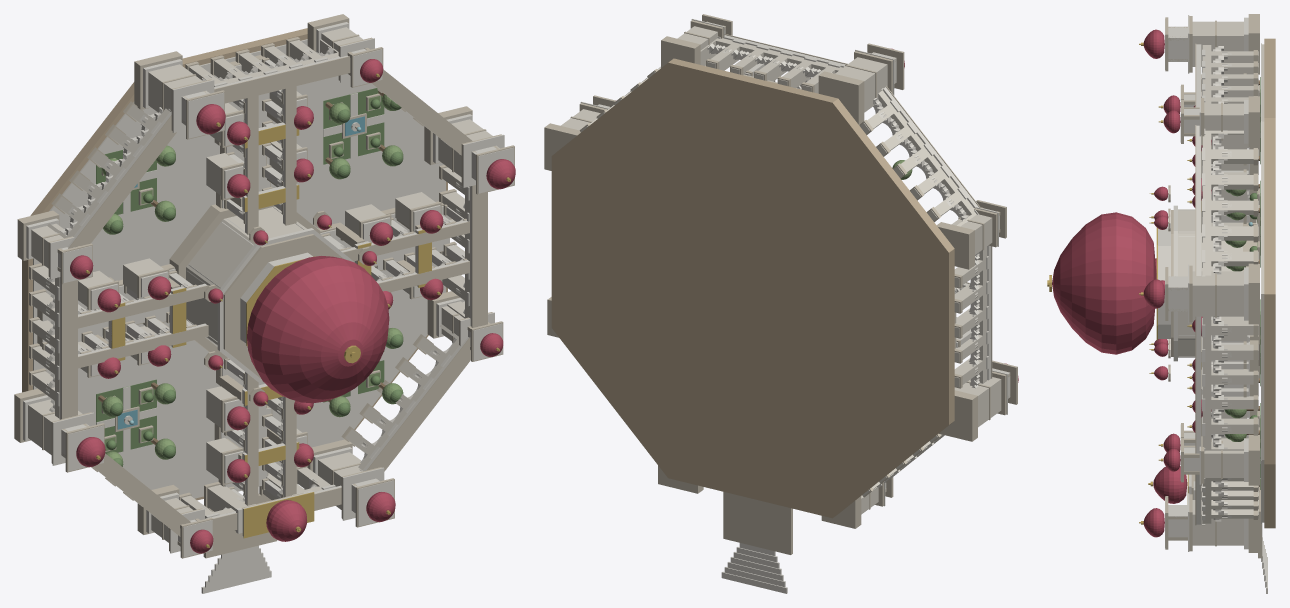
Rendered from arabian_palace_v10.glb.
The picture shows the model from 3 angles, left to right: view 1: azimuth 30°, elevation 25°; view 2: azimuth 150°, elevation 25°; view 3: azimuth 270°, elevation 25°; orthographic projection. The views are drawn at different scales.
Parts seen in each view (by area): view 1: Thin ivory foundation trim, Great central crimson dome, Central keep main body, Main sandstone foundation, Central keep roof terrace, Outer wall stone roof trim_7, Outer wall stone roof trim_3, Outer wall stone roof trim, Outer wall stone roof trim_4, Outer wall stone roof trim_2, Outer wall stone roof trim_1, Outer wall stone roof trim_5 (+42 smaller); view 2: Main sandstone foundation, Gate entrance landing, Main tower 3 sandstone base, Main tower 3 shaft, Main tower 5 sandstone base, Secondary tower 4 sandstone base, Main tower 5 shaft, Secondary tower 2 sandstone base, Main tower 1 sandstone base, Secondary tower 4 shaft, Outer wall upper band_3, Secondary tower 6 sandstone base (+1 smaller); view 3: Great central crimson dome, Main sandstone foundation, Central keep main body, Main tower 1 shaft, Main tower 3 shaft, Main ivory foundation, Main tower 7 shaft, Secondary tower 2 shaft, Secondary tower 8 shaft, Great dome ivory drum, Gate crimson dome, Outer wall upper band_1 (+36 smaller).
Boxes of the visible parts, box(x1,y1,x2,y2) form: Thin ivory foundation trim: box(33, 39, 445, 498); Great central crimson dome: box(247, 256, 389, 403); Central keep main body: box(186, 206, 306, 346); Main sandstone foundation: box(22, 28, 447, 500); Central keep roof terrace: box(223, 234, 343, 378); Outer wall stone roof trim_7: box(366, 337, 470, 471); Outer wall stone roof trim_3: box(68, 115, 176, 248); Outer wall stone roof trim: box(471, 185, 487, 327); Outer wall stone roof trim_4: box(61, 280, 77, 419); Outer wall stone roof trim_2: box(214, 56, 350, 103); Outer wall stone roof trim_1: box(371, 69, 472, 155); Outer wall stone roof trim_5: box(93, 453, 190, 536); Main sandstone foundation: box(551, 58, 954, 518); Gate entrance landing: box(723, 492, 792, 554); Main tower 3 sandstone base: box(818, 71, 864, 125); Main tower 3 shaft: box(835, 57, 887, 112); Main tower 5 sandstone base: box(939, 390, 977, 441); Secondary tower 4 sandstone base: box(936, 222, 974, 269); Main tower 5 shaft: box(954, 377, 1001, 427); Secondary tower 2 sandstone base: box(661, 36, 700, 67); Main tower 1 sandstone base: box(544, 123, 580, 170); Secondary tower 4 shaft: box(952, 214, 992, 254); Outer wall upper band_3: box(883, 87, 978, 208); Secondary tower 6 sandstone base: box(821, 496, 861, 528); Great central crimson dome: box(1052, 212, 1156, 354); Main sandstone foundation: box(1264, 38, 1275, 528); Central keep main body: box(1178, 209, 1242, 357); Main tower 1 shaft: box(1192, 271, 1243, 316); Main tower 3 shaft: box(1192, 21, 1243, 66); Main ivory foundation: box(1262, 44, 1264, 522); Main tower 7 shaft: box(1192, 500, 1243, 545); Secondary tower 2 shaft: box(1204, 103, 1243, 139); Secondary tower 8 shaft: box(1204, 442, 1243, 477); Great dome ivory drum: box(1158, 228, 1170, 338); Gate crimson dome: box(1153, 466, 1187, 503); Outer wall upper band_1: box(1196, 125, 1201, 275).
Bounding box in the file's own units: 171 × 200 × 80.15.
